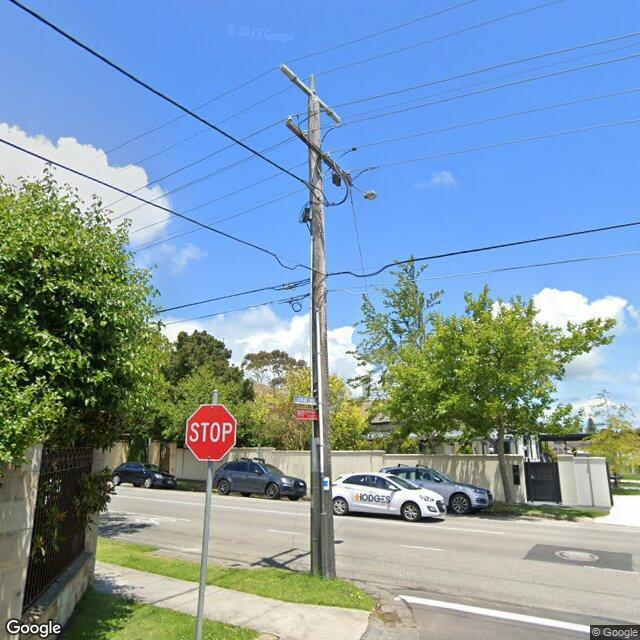HV-transmission: (286, 117, 379, 186), (280, 64, 340, 122)
crossarm: (294, 77, 329, 110)
streetlight: (350, 184, 378, 200)
timber-pole: (308, 94, 336, 578)
